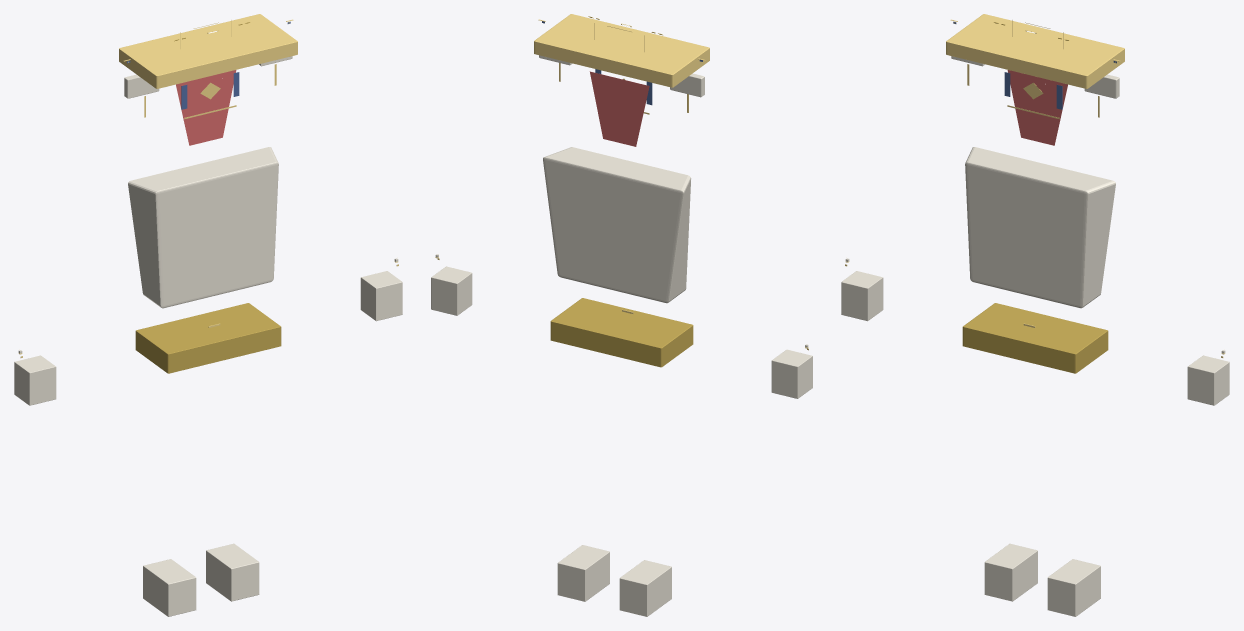
File: outfit_architect.glb
The picture shows the model from 3 angles, left to right: view 1: azimuth 30°, elevation 25°; view 2: azimuth 150°, elevation 25°; view 3: azimuth 330°, elevation 25°; orthographic projection.
Parts seen in each view (by area): view 1: outfit_architect_chest_plate, outfit_architect_head_circlet, outfit_architect_hip_belt, outfit_architect_back_mantle, outfit_architect_boot_R, outfit_architect_boot_L, outfit_architect_glove_L, outfit_architect_glove_R, outfit_architect_chest_pauldron_L; view 2: outfit_architect_chest_plate, outfit_architect_head_circlet, outfit_architect_hip_belt, outfit_architect_back_mantle, outfit_architect_boot_L, outfit_architect_boot_R, outfit_architect_glove_L, outfit_architect_glove_R, outfit_architect_chest_pauldron_L; view 3: outfit_architect_chest_plate, outfit_architect_head_circlet, outfit_architect_hip_belt, outfit_architect_back_mantle, outfit_architect_boot_L, outfit_architect_boot_R, outfit_architect_glove_R, outfit_architect_glove_L, outfit_architect_chest_pauldron_R.
Part boxes in pixels (x1,y1,x2,y2): outfit_architect_chest_plate: (128,147,278,308); outfit_architect_head_circlet: (119,14,297,88); outfit_architect_hip_belt: (135,303,281,373); outfit_architect_back_mantle: (176,70,236,145); outfit_architect_boot_R: (206,543,259,601); outfit_architect_boot_L: (143,559,196,616); outfit_architect_glove_L: (14,355,56,405); outfit_architect_glove_R: (360,271,402,321); outfit_architect_chest_pauldron_L: (124,74,159,98); outfit_architect_chest_plate: (543,147,691,303); outfit_architect_head_circlet: (534,14,709,87); outfit_architect_hip_belt: (550,298,693,367); outfit_architect_back_mantle: (589,71,649,146); outfit_architect_boot_L: (619,560,671,616); outfit_architect_boot_R: (557,545,609,601); outfit_architect_glove_L: (771,349,812,398); outfit_architect_glove_R: (431,266,472,315); outfit_architect_chest_pauldron_L: (670,73,704,97); outfit_architect_chest_plate: (965,147,1115,308); outfit_architect_head_circlet: (946,14,1124,88); outfit_architect_hip_belt: (962,303,1108,373); outfit_architect_back_mantle: (1007,70,1067,145); outfit_architect_boot_L: (984,543,1037,601); outfit_architect_boot_R: (1047,559,1100,616); outfit_architect_glove_R: (1187,355,1229,405); outfit_architect_glove_L: (841,271,883,321); outfit_architect_chest_pauldron_R: (1084,74,1119,98).
Size of the model in its own units: 1.2 by 1.74 by 0.215.
